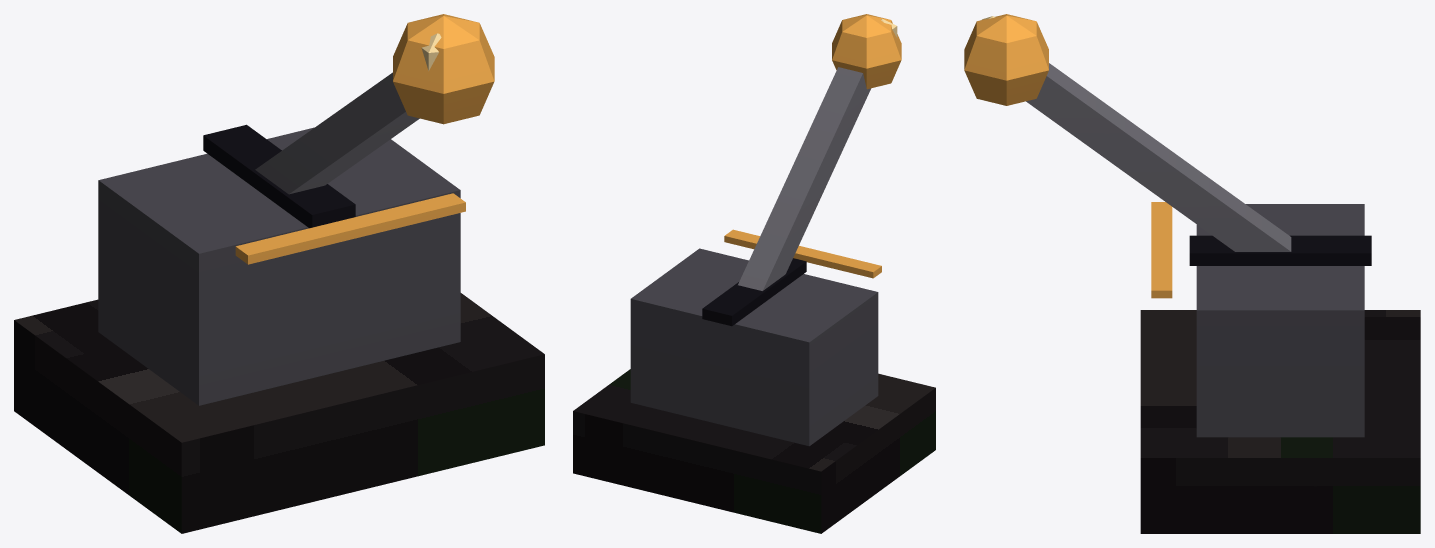
The model's file is lever_down.glb.
3 renders of one model, left to right at view 1: azimuth 30°, elevation 25°; view 2: azimuth 150°, elevation 25°; view 3: azimuth 270°, elevation 25°, orthographic. The views are drawn at different scales.
Parts seen in each view (by area): view 1: lever_down; view 2: lever_down; view 3: lever_down.
Boxes of the visible parts, x1,y1,x2,y2 form: lever_down: (14,14,544,533); lever_down: (573,14,935,533); lever_down: (964,14,1420,533).
Size of the model in its own units: 0.5 by 0.7008 by 0.6523.
3 materials, 1 textured.
